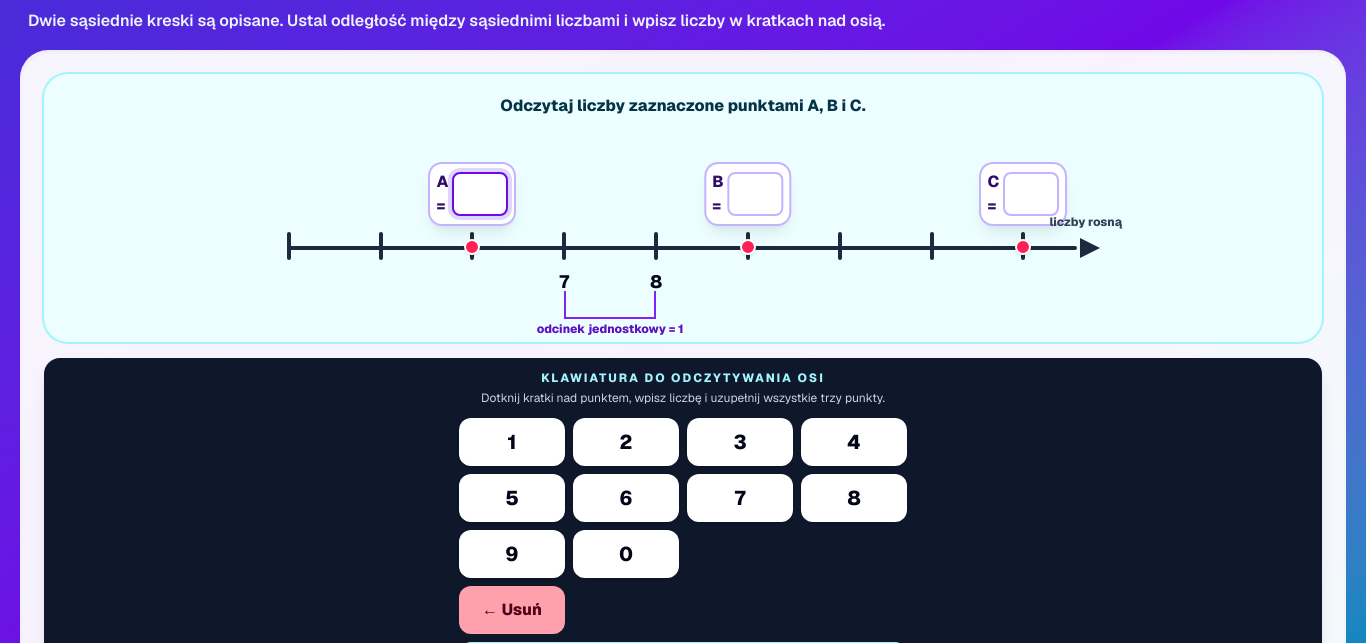
Grade4NumberLineLessonLab › nie przyjmuje niepełnej odpowiedzi
This screenshot has width=1366, height=643.
Step 1. Click the button "6" → (626, 498), box [573,474,679,522]
(page scrolled)
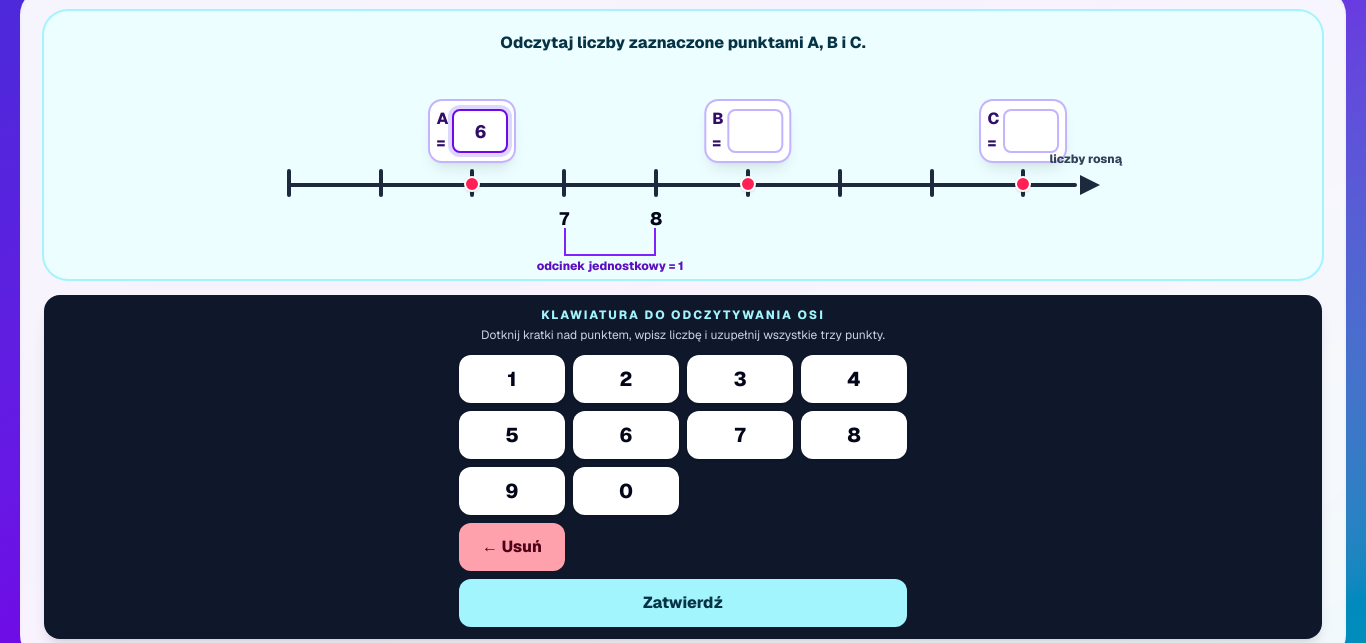
Step 2. Click the button "Zatwierdź" → (683, 603), box [459,579,907,627]
(page scrolled)
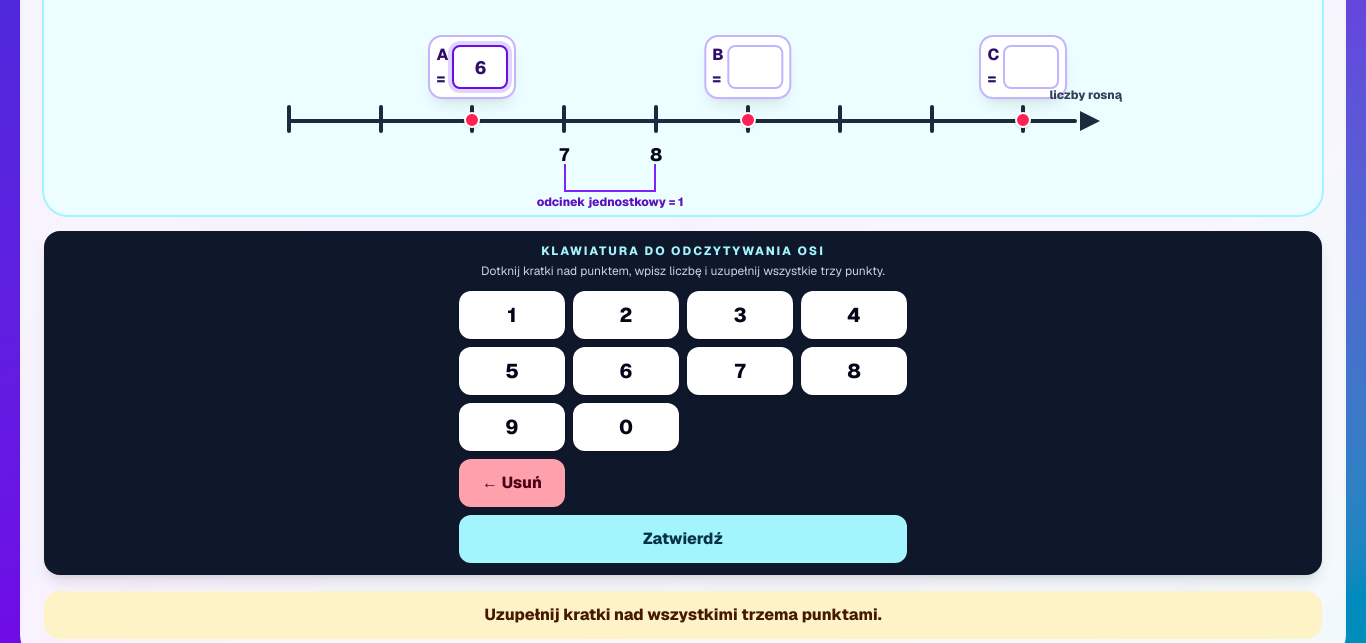
Result: the message reads "Uzupełnij kratki nad wszystkimi trzema punktami." at [484,604,882,625]
